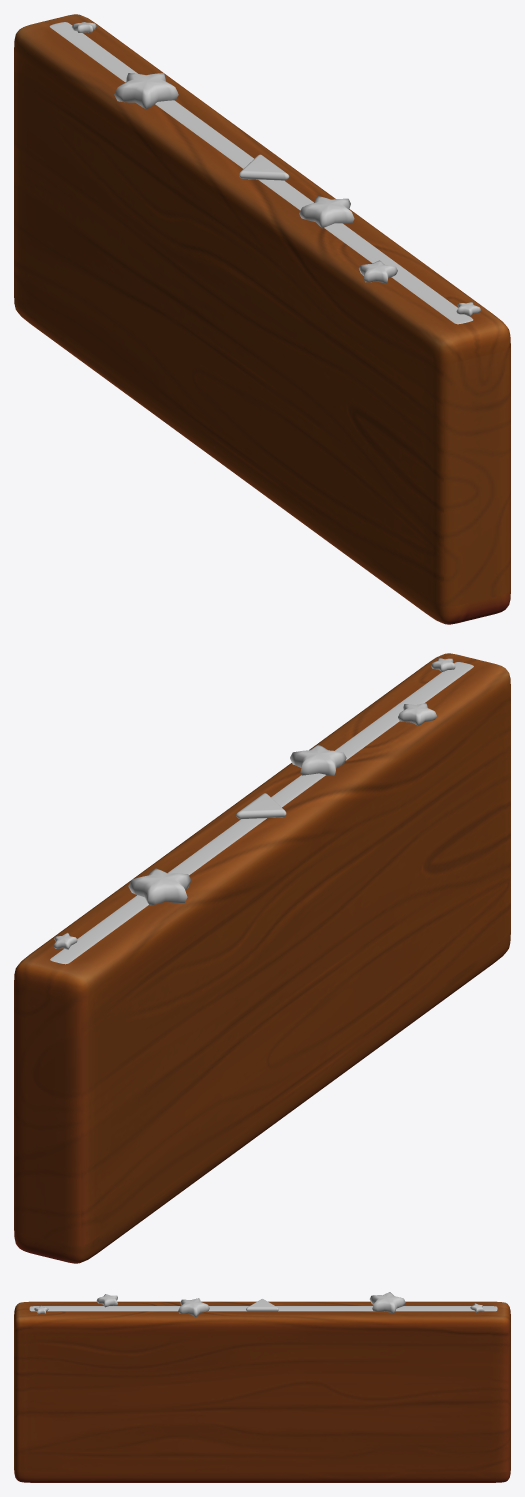
The model's file is wall_5.fbx.
3 renders of one model, top to bottom at view 1: azimuth 30°, elevation 25°; view 2: azimuth 150°, elevation 25°; view 3: azimuth 270°, elevation 25°, orthographic. The views are drawn at different scales.
Visible parts, largest first — view 1: wall_5, lego_point, stars, triangle; view 2: wall_5, lego_point, stars, triangle; view 3: wall_5, lego_point, stars, triangle.
Part boxes in pixels (x1,y1,x2,y2): wall_5: [14, 14, 510, 624]; lego_point: [49, 22, 473, 324]; stars: [72, 22, 480, 316]; triangle: [239, 154, 289, 180]; wall_5: [14, 653, 510, 1263]; lego_point: [50, 662, 473, 964]; stars: [54, 658, 455, 949]; triangle: [236, 793, 286, 818]; wall_5: [14, 1301, 510, 1482]; lego_point: [29, 1306, 497, 1311]; stars: [34, 1292, 484, 1317]; triangle: [246, 1299, 278, 1311].
Bounding box in the file's own units: 0.5 × 1.96 × 5.02.
